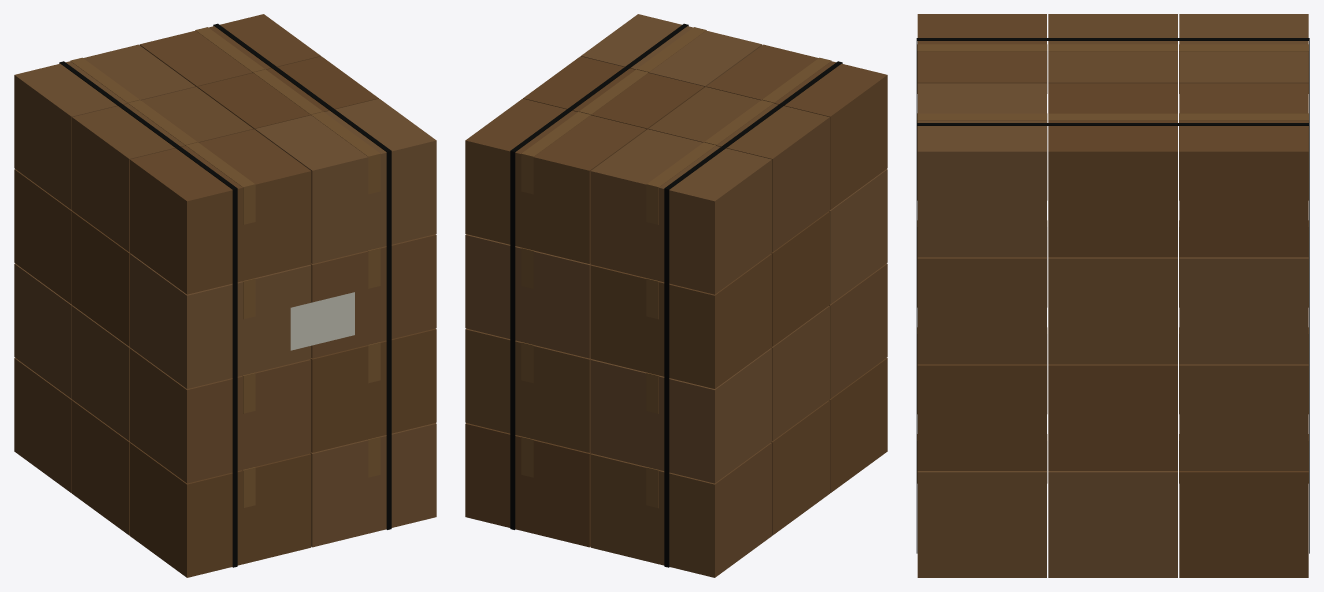
Rendered from carton-load-lods.fbx.
3 views of the same model, side by side, from view 1: azimuth 30°, elevation 25°; view 2: azimuth 150°, elevation 25°; view 3: azimuth 270°, elevation 25° (orthographic). The views are drawn at different scales.
Visible parts, largest first — view 1: Cargo_LOD0; view 2: Cargo_LOD0; view 3: Cargo_LOD0.
Part boxes in pixels (x1,y1,x2,y2): Cargo_LOD0: (14,14,436,577); Cargo_LOD0: (465,14,887,577); Cargo_LOD0: (916,14,1309,577).
Size of what is drawn, in the model's own units: 97.2 by 141 by 117.
